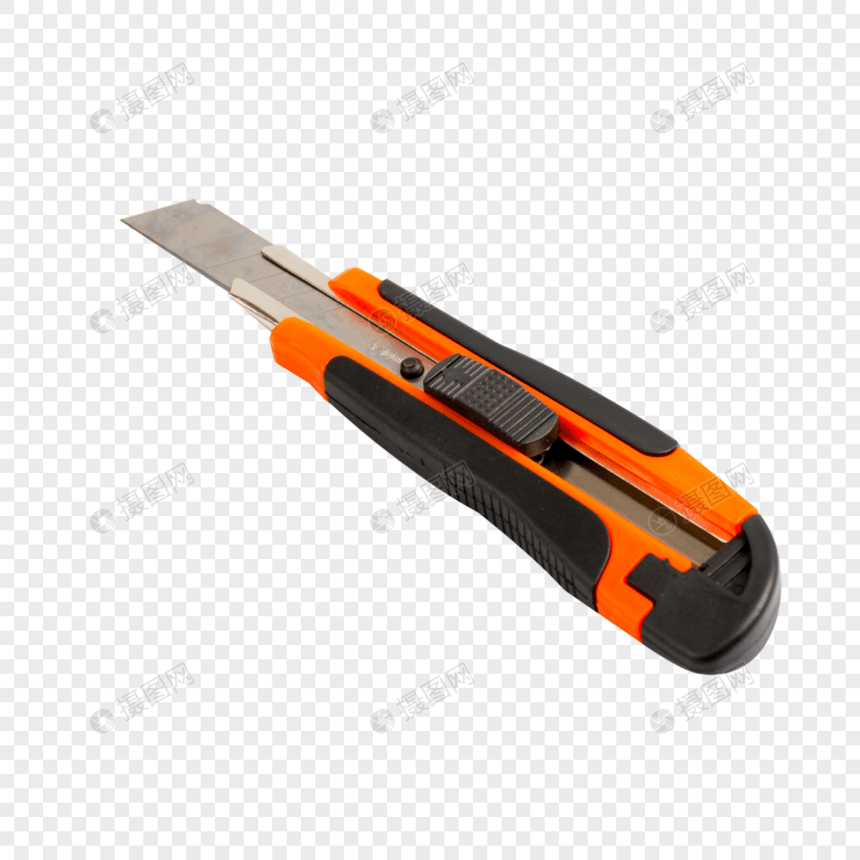cutter: (112, 198, 783, 677)
